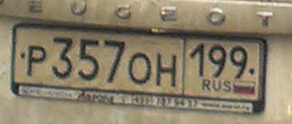character: (50, 34, 75, 80), (78, 34, 101, 81), (103, 36, 125, 85), (128, 48, 152, 88), (154, 49, 177, 88), (228, 40, 248, 81), (26, 42, 48, 79), (188, 38, 208, 78), (209, 39, 227, 77)
